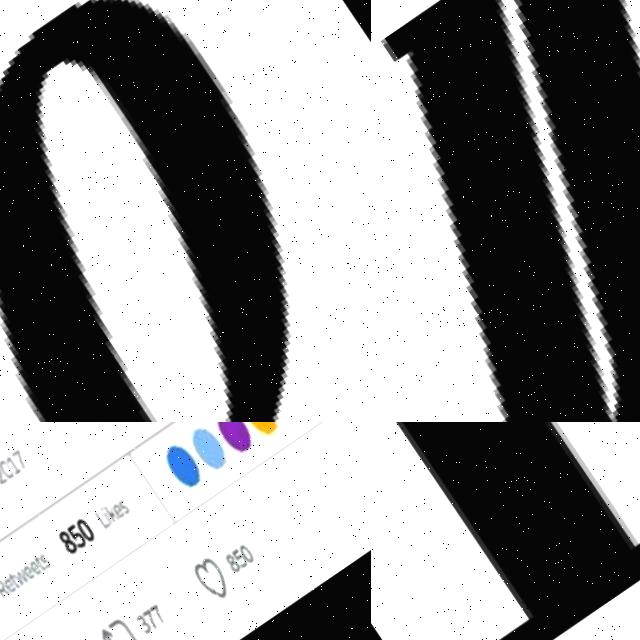0: (0, 0, 371, 422), (73, 516, 97, 544), (235, 544, 255, 567), (0, 456, 16, 481)
1: (2, 453, 21, 477)
2: (0, 462, 8, 485)
3: (133, 613, 153, 637)
5: (65, 523, 88, 551), (230, 548, 249, 571)
7: (9, 448, 29, 472), (148, 603, 168, 626), (141, 609, 160, 632)
8: (53, 526, 82, 559), (222, 550, 244, 577)
N: (371, 422, 640, 640)
U: (371, 0, 640, 422)
